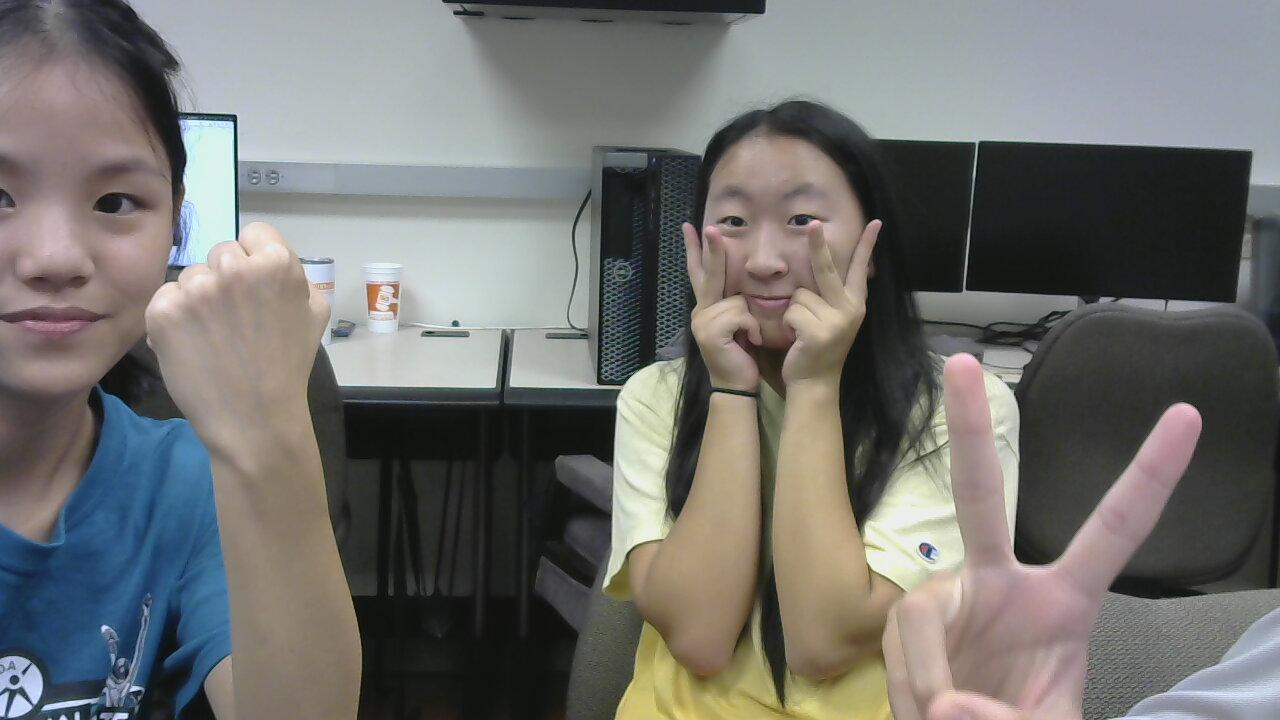fist: (144, 208, 345, 452)
peace: (861, 347, 1225, 720), (671, 212, 775, 402), (780, 205, 879, 390)
